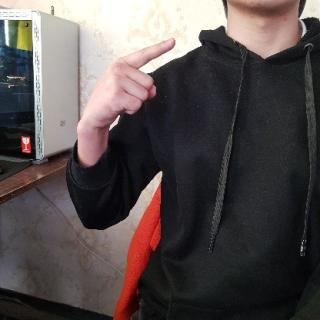RAA: (76, 31, 178, 156)
